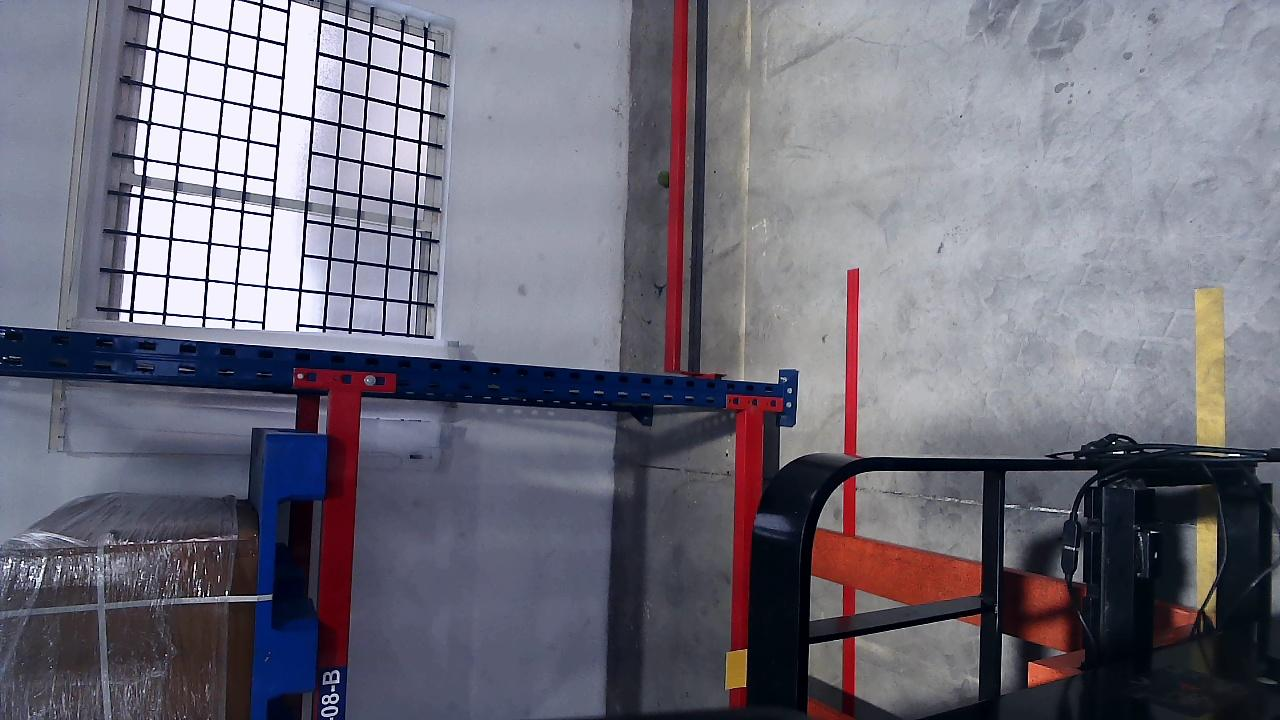h_rack: (312, 389, 363, 719), (726, 409, 764, 697)
orange_strip: (724, 650, 748, 690)
red_line: (844, 267, 861, 454)
small_pallet: (249, 435, 329, 718)
yellow_line: (1194, 286, 1225, 446)
